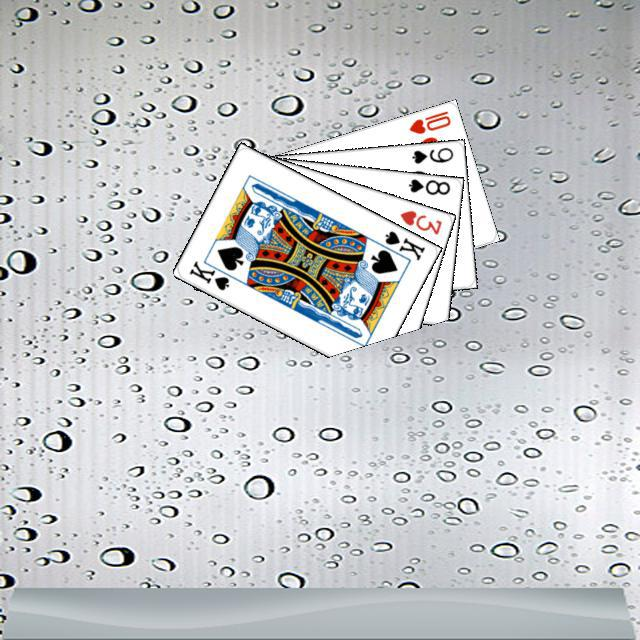10h: (404, 106, 452, 136)
3h: (395, 205, 444, 236)
8s: (404, 174, 452, 197)
9s: (407, 142, 455, 165)
Ks: (184, 256, 238, 292), (380, 226, 427, 262)
